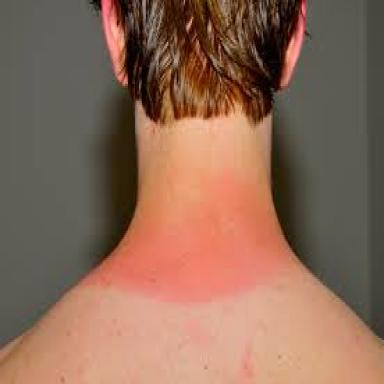burn: (78, 171, 300, 303), (100, 1, 126, 81), (284, 1, 305, 77), (179, 318, 216, 352), (239, 341, 254, 381)
